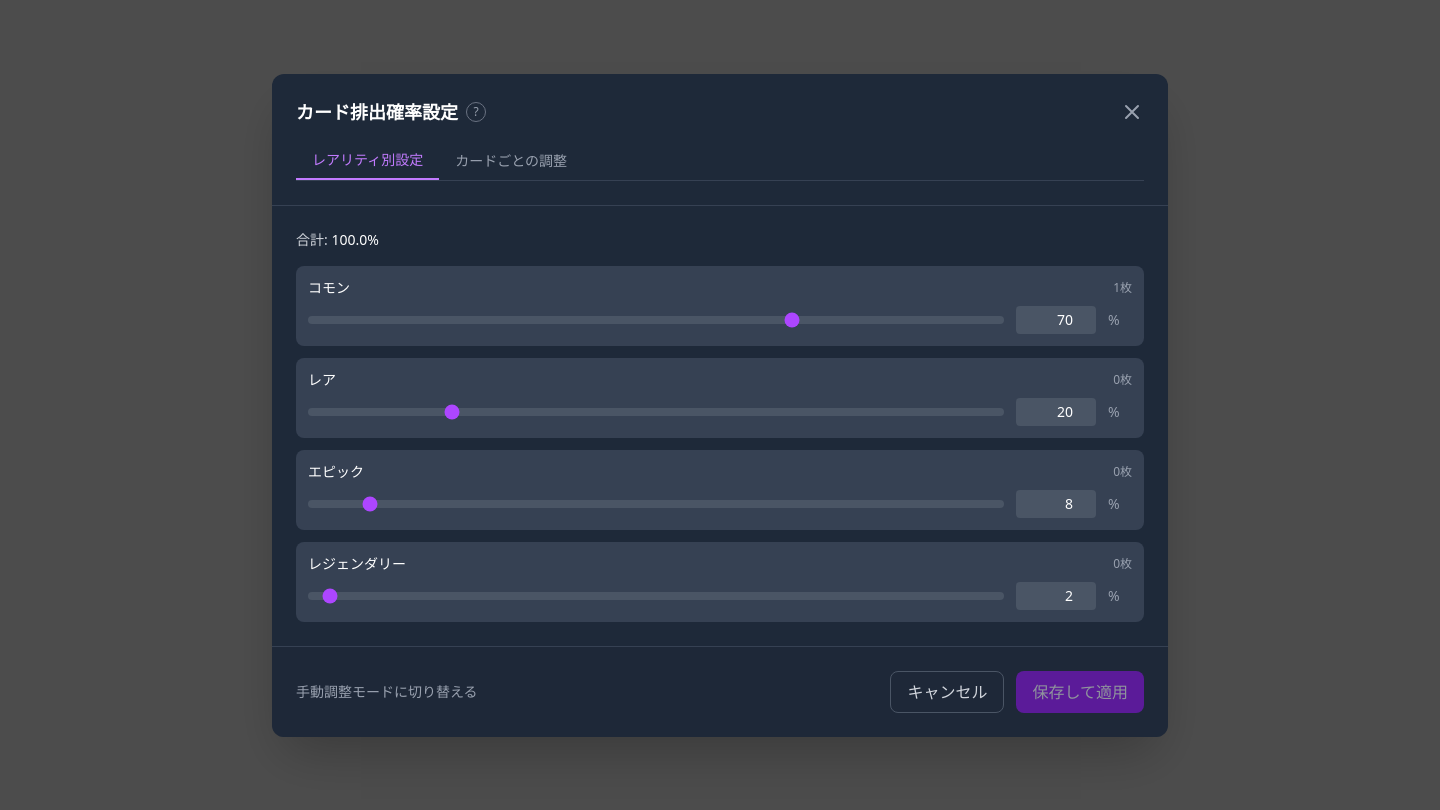
Test: DropRateAutoModeContent maintenance integration (rarity tab) › 事前disableをすり抜けて保存が503(maintenance)で拒否された場合、サーバーの案内文言を表示する
Replace the text in the number field below "1枚" with "71" at (1056, 320), box [1016,306,1096,334]
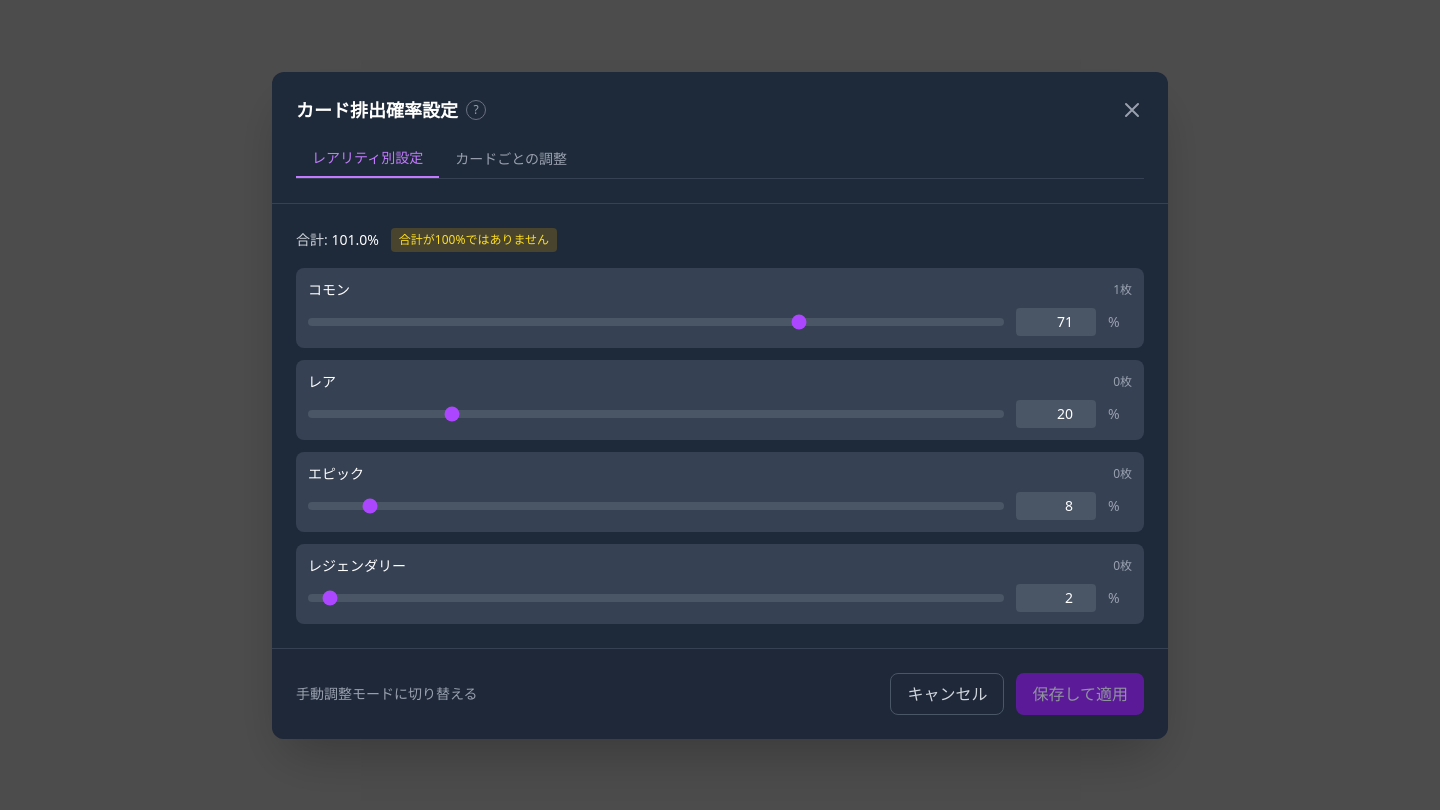
Replace the text in the 2nd number field with "19" at (1056, 414), box [1016,400,1096,428]
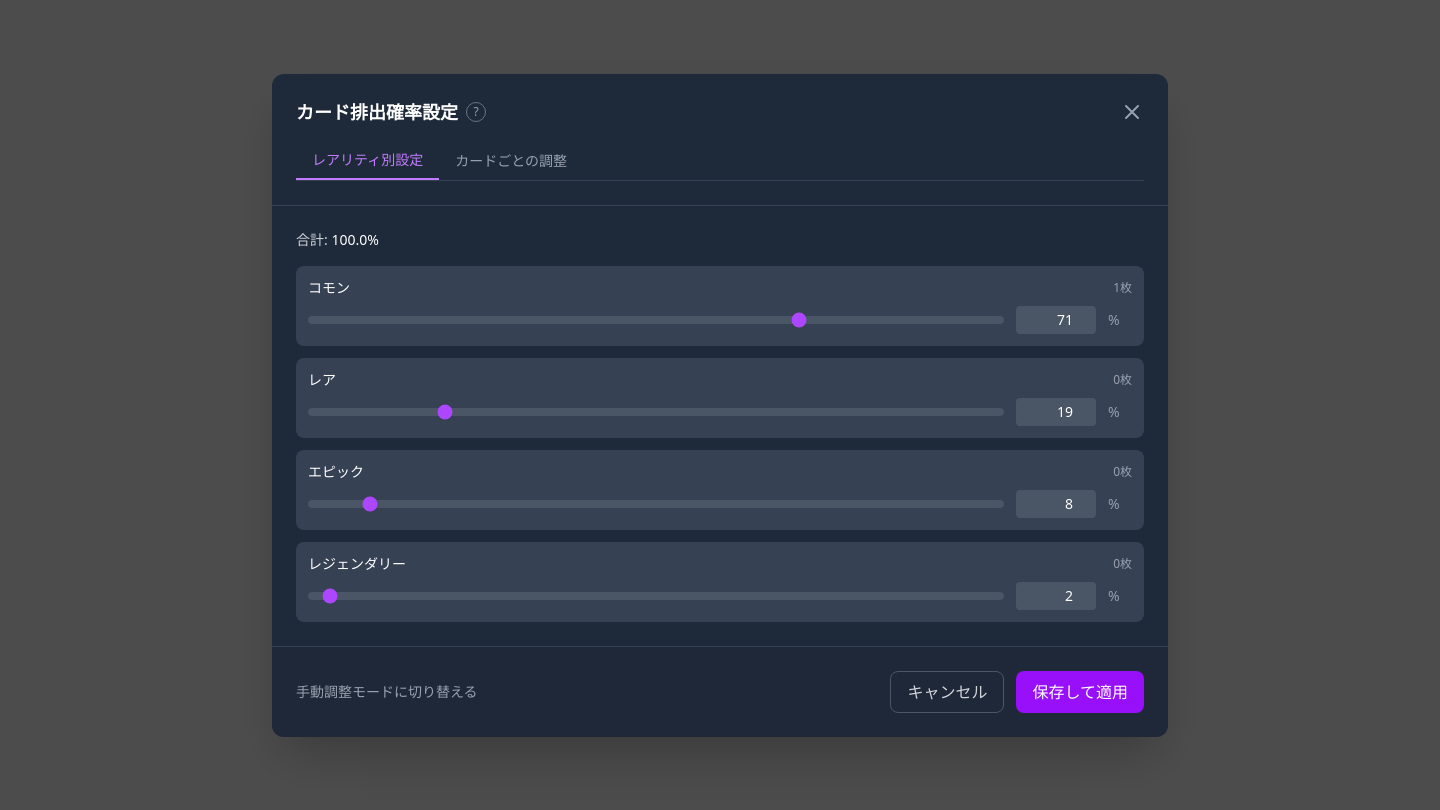
Click the button "保存して適用".
click(1080, 692)  # box [1016,670,1144,712]
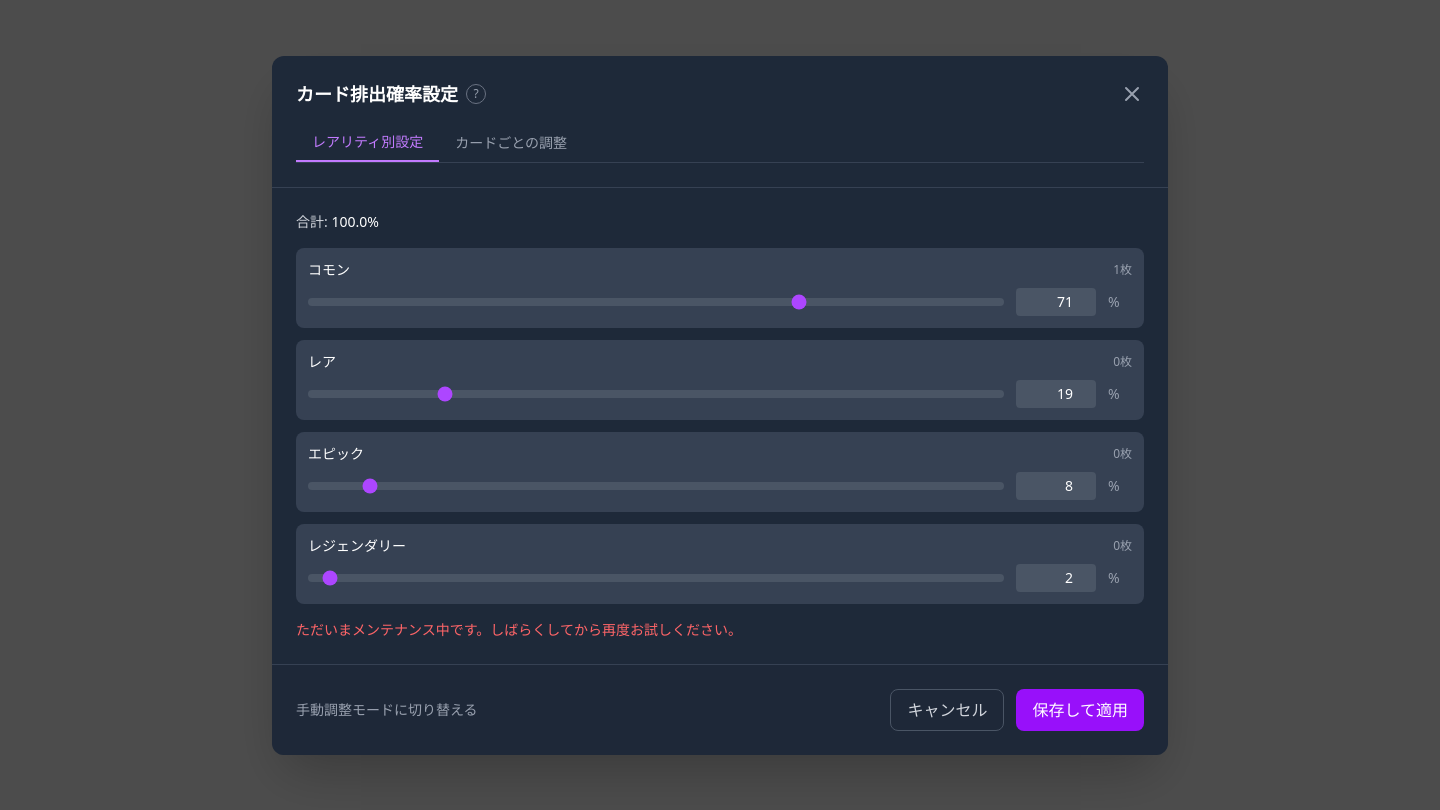
Expected: the text "ただいまメンテナンス中です。しばらくしてから再度お試しください。" is shown, [296,620,742,638]
